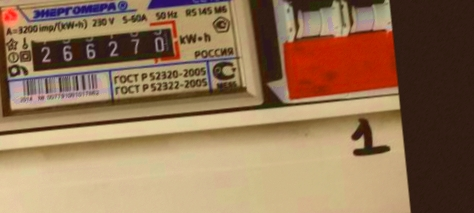0: (153, 33, 166, 51)
2: (38, 43, 53, 62), (107, 37, 120, 56)
6: (61, 41, 75, 61), (84, 40, 98, 59)
7: (130, 35, 143, 54)
screen: (20, 14, 187, 79)
